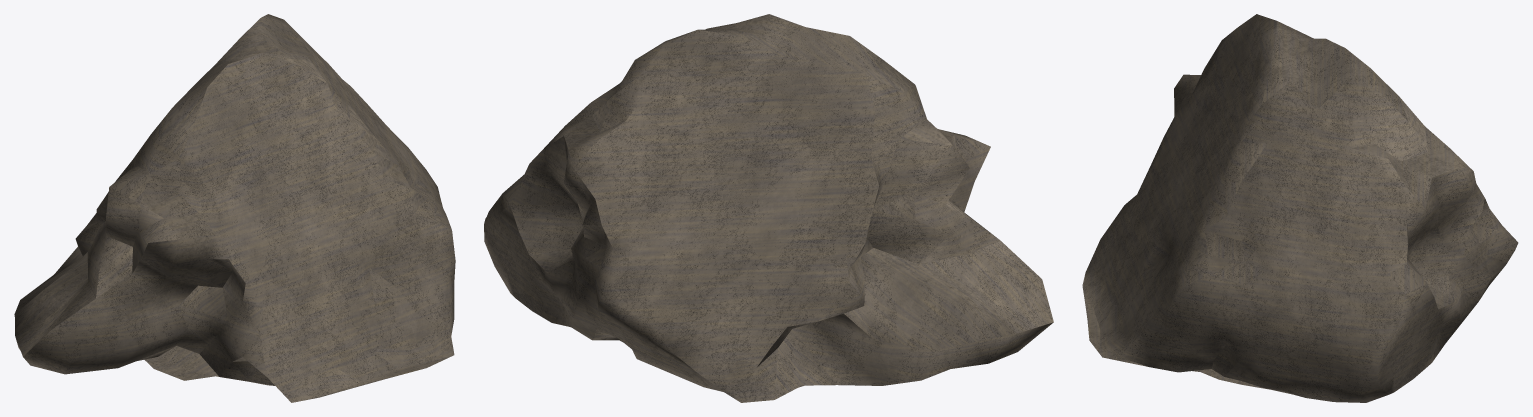
The model's file is SM_Rocas_PuertaNorte_03.fbx.
3 renders of one model, left to right at view 1: azimuth 30°, elevation 25°; view 2: azimuth 150°, elevation 25°; view 3: azimuth 270°, elevation 25°, orthographic. The views are drawn at different scales.
Visible parts, largest first — view 1: SM_Rocas_PuertaNorte_03; view 2: SM_Rocas_PuertaNorte_03; view 3: SM_Rocas_PuertaNorte_03.
Part boxes in pixels (x1=…): SM_Rocas_PuertaNorte_03: x1=14, y1=14, x2=455, y2=402; SM_Rocas_PuertaNorte_03: x1=484, y1=14, x2=1053, y2=402; SM_Rocas_PuertaNorte_03: x1=1082, y1=14, x2=1518, y2=402.
Size of what is drawn, in the model's own units: 4.23 by 3.36 by 2.32.
